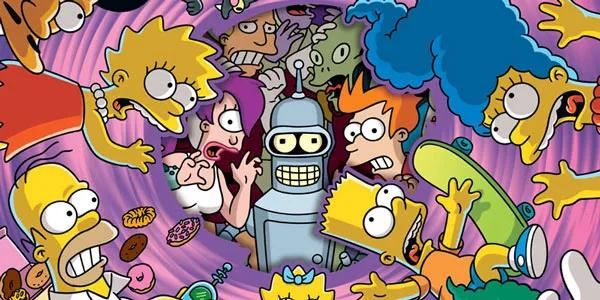Bart: (311, 146, 557, 288)
Homer: (0, 147, 137, 296)
Lisa: (0, 19, 227, 184)
Maggie: (244, 260, 341, 300)
Marge: (343, 1, 600, 166)
